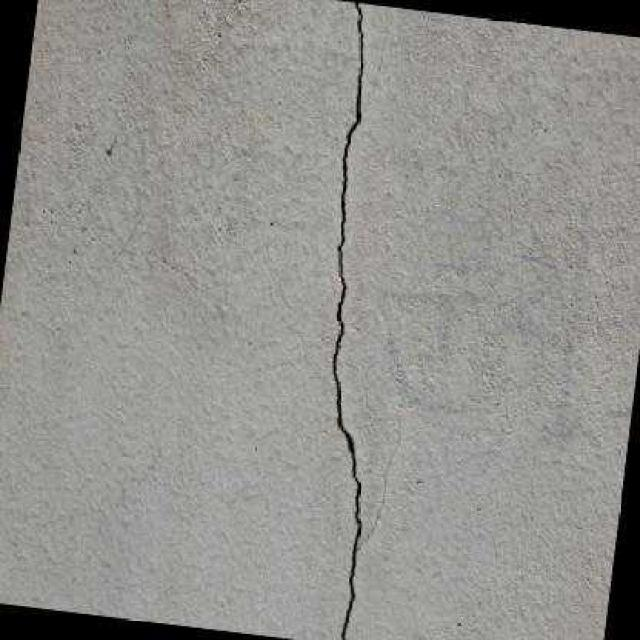D00: (330, 2, 364, 640)
